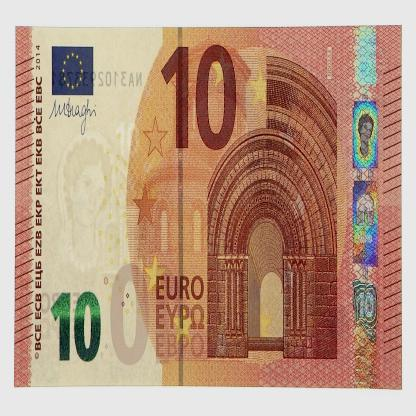euro_banknote: (15, 25, 402, 389)
